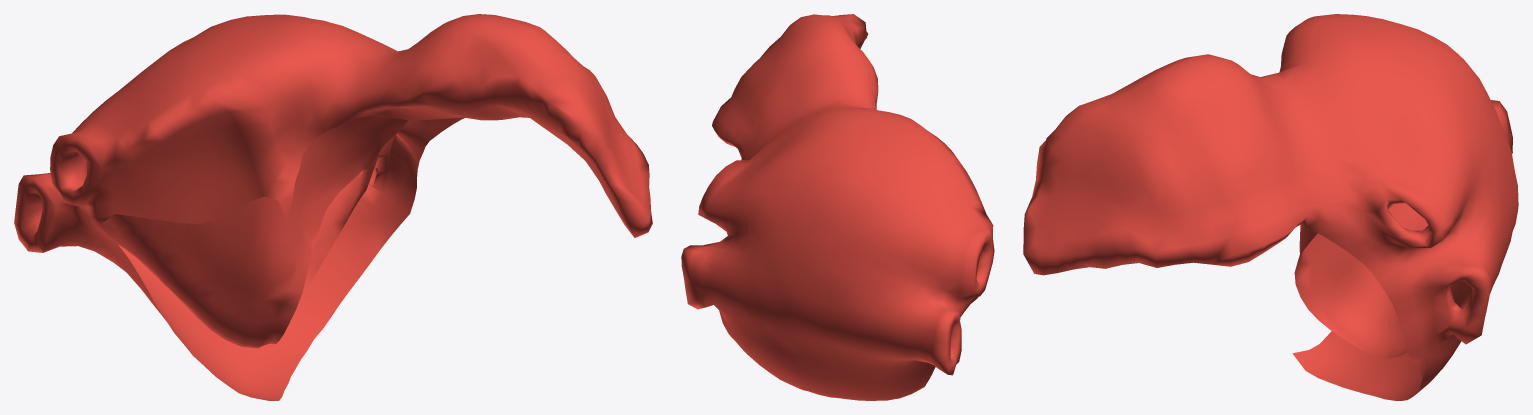
Rendered from leftatrium.gltf.
The picture shows the model from 3 angles, left to right: view 1: azimuth 30°, elevation 25°; view 2: azimuth 150°, elevation 25°; view 3: azimuth 270°, elevation 25°; orthographic projection. The views are drawn at different scales.
Parts seen in each view (by area): view 1: Left atrium.010; view 2: Left atrium.010; view 3: Left atrium.010.
Part boxes in pixels (x1,y1,x2,y2): Left atrium.010: (14,14,652,400); Left atrium.010: (681,14,994,400); Left atrium.010: (1023,14,1518,400).
Size of the model in its own units: 2.73 by 2.31 by 2.68.
